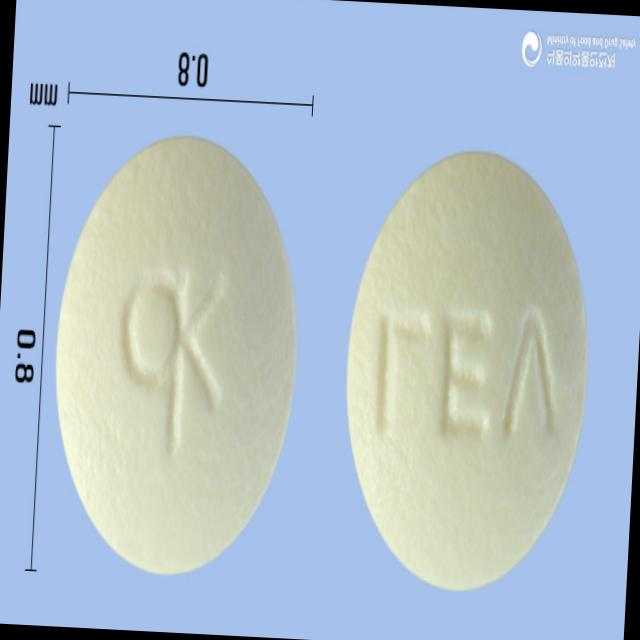Levoracin: (337, 148, 601, 603), (47, 126, 308, 582)
